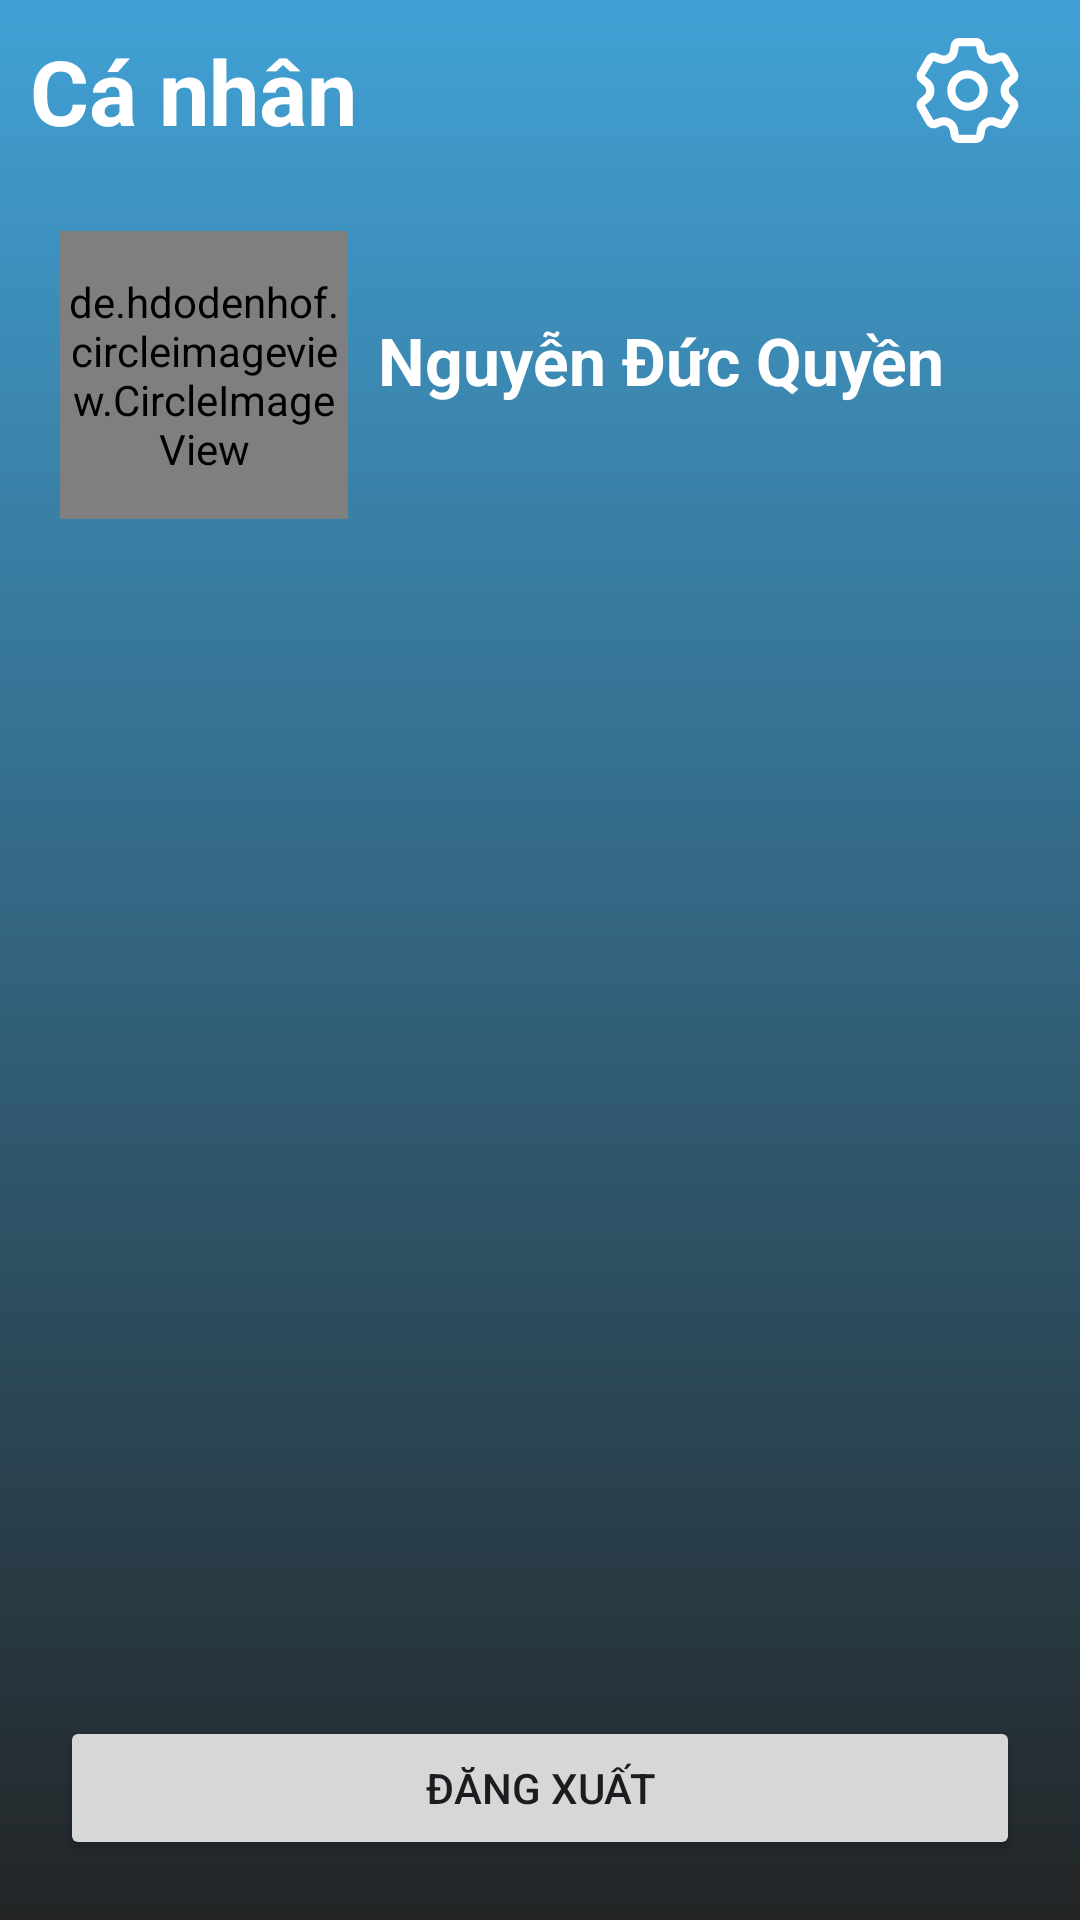

Icons on this 1080 x 1920 Android screen, each with the point to tap as (x,y):
setting: (967,90)
